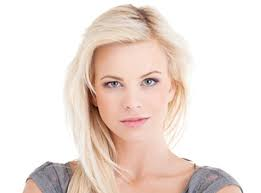white_female: (63, 35, 175, 153)
